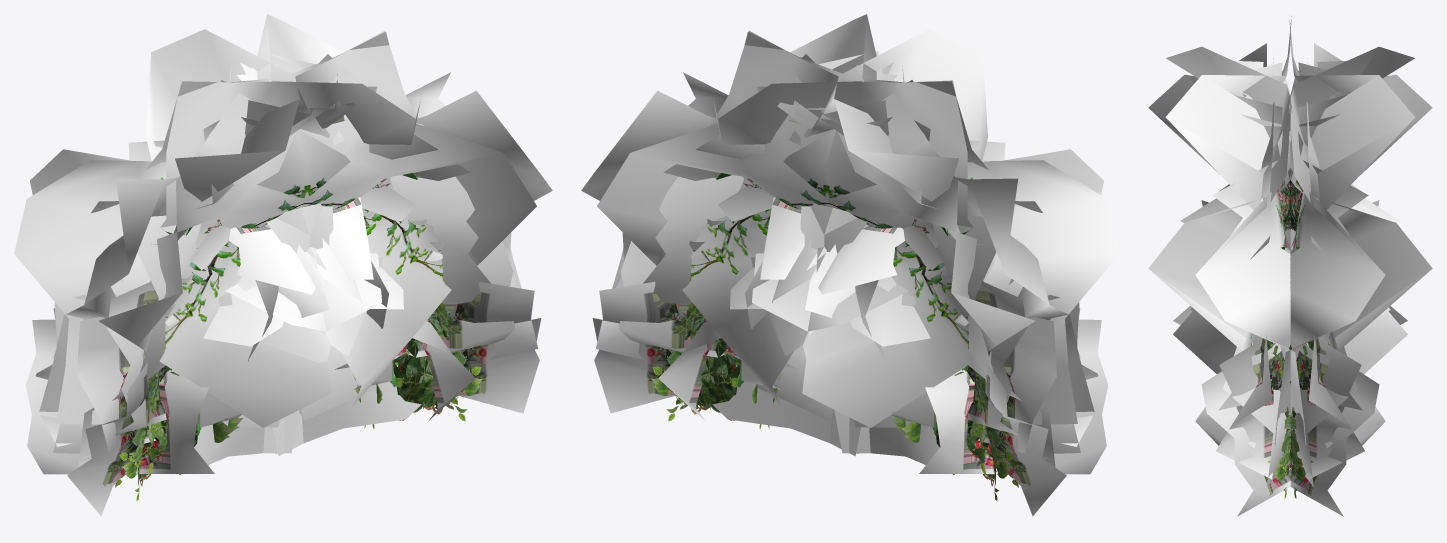
Rendered from Mesh pots.fbx.
The picture shows the model from 3 angles, left to right: view 1: azimuth 30°, elevation 25°; view 2: azimuth 150°, elevation 25°; view 3: azimuth 270°, elevation 25°; orthographic projection. The views are drawn at different scales.
Visible parts, largest first — view 1: Vinr2.001, Vinr2.002, Vinr, Vinr1.002, Vinr1.001, Vine.002, Flower_3.002, Vinr.002, Vinr1.003, Flower_3.003, Vine.001, Flower_2.001 (+19 smaller); view 2: Vinr2.003, Vinr2, Vinr.002, Vinr1, Vinr1.003, Vine, Flower_3, Vinr, Vinr1.001, Flower_3.001, Vine.003, Flower_2.003 (+19 smaller); view 3: Vinr.003, Vinr.001, Vinr1, Vinr1.002, Vinr2.002, Vinr2, Flower_3.003, Flower_3.001, Vinr1.001, Vinr1.003, Flower_2.002, Flower_2 (+14 smaller).
Part boxes in pixels (bbox=[...]): Vinr2.001: bbox=[98, 92, 415, 427]; Vinr2.002: bbox=[190, 66, 536, 405]; Vinr: bbox=[14, 160, 279, 427]; Vinr1.002: bbox=[160, 80, 420, 355]; Vinr1.001: bbox=[175, 30, 423, 362]; Vine.002: bbox=[248, 175, 490, 453]; Flower_3.002: bbox=[25, 319, 214, 474]; Vinr.002: bbox=[39, 177, 333, 411]; Vinr1.003: bbox=[146, 29, 389, 161]; Flower_3.003: bbox=[454, 281, 541, 413]; Vine.001: bbox=[78, 215, 388, 466]; Flower_2.001: bbox=[77, 304, 242, 458]; Vinr2.003: bbox=[718, 92, 1035, 427]; Vinr2: bbox=[597, 66, 943, 405]; Vinr.002: bbox=[854, 160, 1119, 427]; Vinr1: bbox=[713, 80, 973, 355]; Vinr1.003: bbox=[710, 30, 958, 362]; Vine: bbox=[643, 175, 885, 453]; Flower_3: bbox=[919, 319, 1108, 474]; Vinr: bbox=[800, 177, 1094, 411]; Vinr1.001: bbox=[744, 29, 987, 161]; Flower_3.001: bbox=[592, 281, 679, 413]; Vine.003: bbox=[745, 215, 1055, 466]; Flower_2.003: bbox=[891, 304, 1056, 458]; Vinr.003: bbox=[1274, 192, 1385, 446]; Vinr.001: bbox=[1195, 192, 1306, 446]; Vinr1: bbox=[1289, 16, 1415, 314]; Vinr1.002: bbox=[1165, 16, 1291, 314]; Vinr2.002: bbox=[1148, 101, 1290, 373]; Vinr2: bbox=[1290, 101, 1432, 373]; Flower_3.003: bbox=[1201, 344, 1385, 516]; Flower_3.001: bbox=[1195, 344, 1379, 516]; Vinr1.001: bbox=[1166, 46, 1291, 348]; Vinr1.003: bbox=[1289, 46, 1414, 348]; Flower_2.002: bbox=[1216, 336, 1273, 479]; Flower_2: bbox=[1307, 336, 1364, 479].
Bounding box in the file's own units: 1510 × 1227 × 846.
5 materials, 5 textured.
